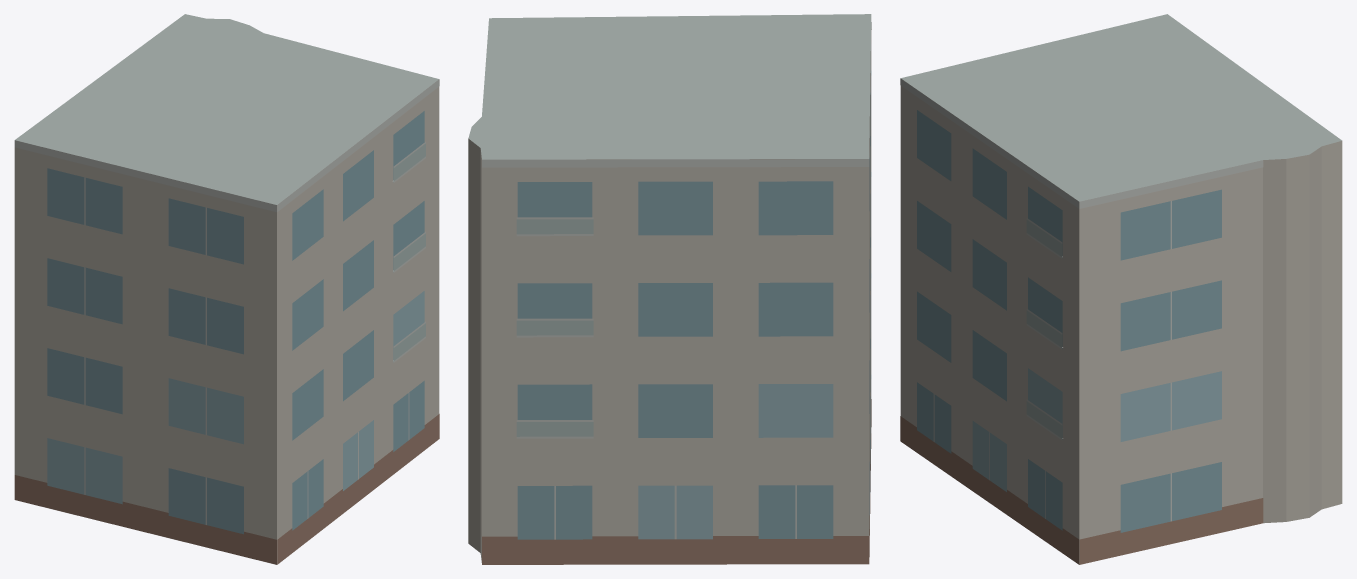
The model's file is survey-upis-32721960.glb.
3 renders of one model, left to right at view 1: azimuth 30°, elevation 25°; view 2: azimuth 150°, elevation 25°; view 3: azimuth 270°, elevation 25°, orthographic. The views are drawn at different scales.
Parts seen in each view (by area): view 1: survey-upis-32721960.tmp; view 2: survey-upis-32721960.tmp; view 3: survey-upis-32721960.tmp.
Boxes of the visible parts, box(x1,y1,x2,y2) form: survey-upis-32721960.tmp: box(14, 14, 439, 564); survey-upis-32721960.tmp: box(468, 14, 871, 564); survey-upis-32721960.tmp: box(900, 14, 1342, 564).
Size of the model in its own units: 13.54 by 12.2 by 13.47.
